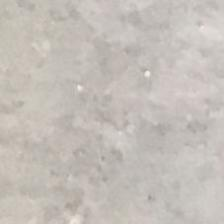Non_Crack: (40, 20, 224, 186)
